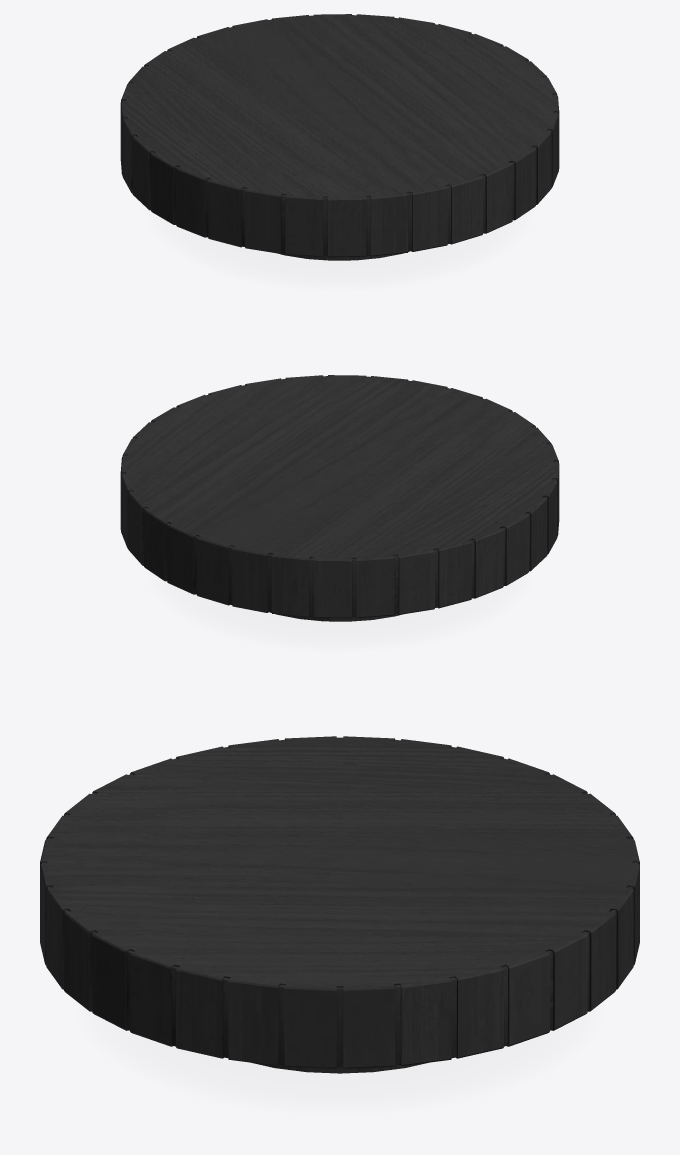
Rendered from Black Coffe Table.glb.
The picture shows the model from 3 angles, top to bottom: view 1: azimuth 30°, elevation 25°; view 2: azimuth 150°, elevation 25°; view 3: azimuth 270°, elevation 25°; orthographic projection. The views are drawn at different scales.
Visible parts, largest first — view 1: Black Coffe Table_Baked, Plane.002_Baked; view 2: Black Coffe Table_Baked, Plane.002_Baked; view 3: Black Coffe Table_Baked, Plane.002_Baked.
Part boxes in pixels (box(x1,y1,x2,y2)): Black Coffe Table_Baked: box(120, 14, 559, 260); Plane.002_Baked: box(155, 215, 524, 287); Black Coffe Table_Baked: box(120, 375, 559, 621); Plane.002_Baked: box(155, 576, 524, 648); Black Coffe Table_Baked: box(40, 736, 639, 1073); Plane.002_Baked: box(87, 1010, 592, 1109).
Size of the model in its own units: 1.82 by 0.4322 by 1.82.
2 materials, 2 textured.
